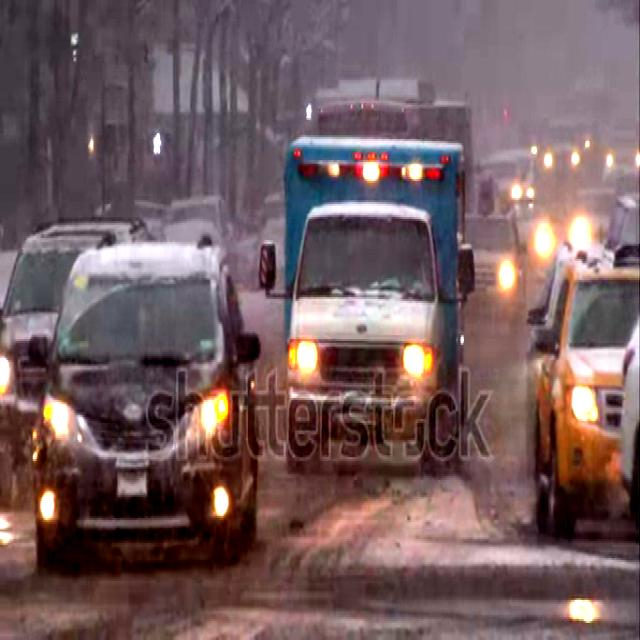ambulance: (260, 137, 474, 476)
